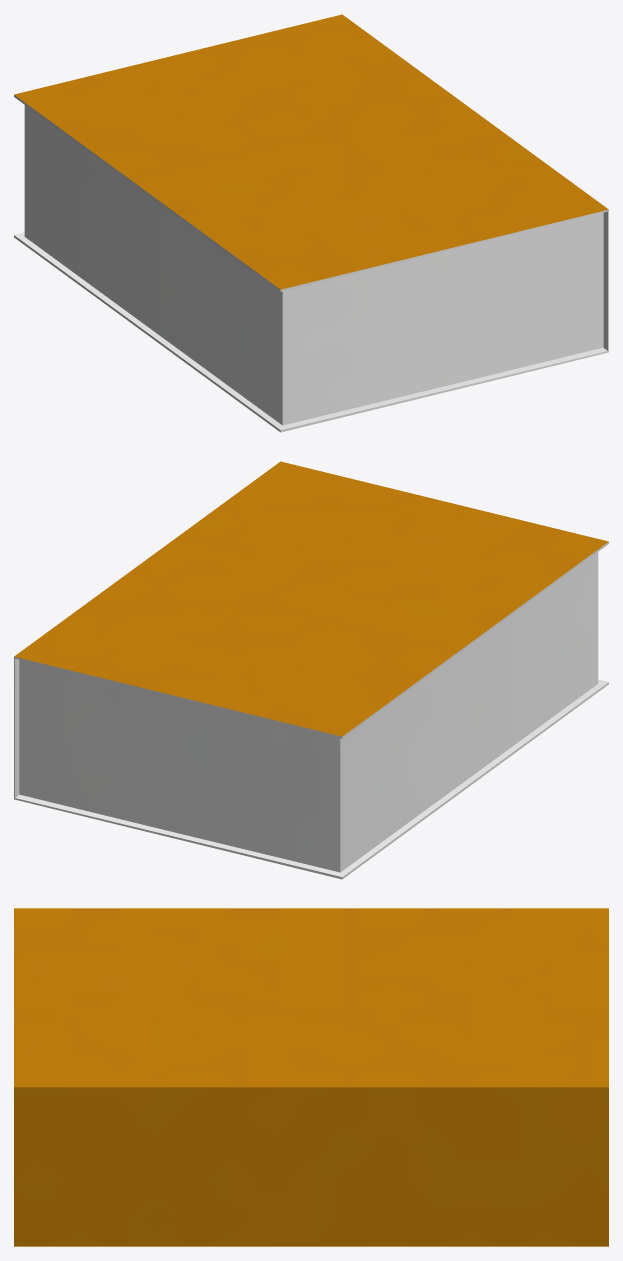
The model's file is Book_5.fbx.
3 views of the same model, one above another, from view 1: azimuth 30°, elevation 25°; view 2: azimuth 150°, elevation 25°; view 3: azimuth 270°, elevation 25° (orthographic). The views are drawn at different scales.
Visible parts, largest first — view 1: Book 5; view 2: Book 5; view 3: Book 5.
Part boxes in pixels (bbox=[...]): Book 5: bbox=[14, 14, 608, 432]; Book 5: bbox=[14, 461, 608, 879]; Book 5: bbox=[14, 908, 608, 1246].
Size of the model in its own units: 21.61 by 8.98 by 30.4.
